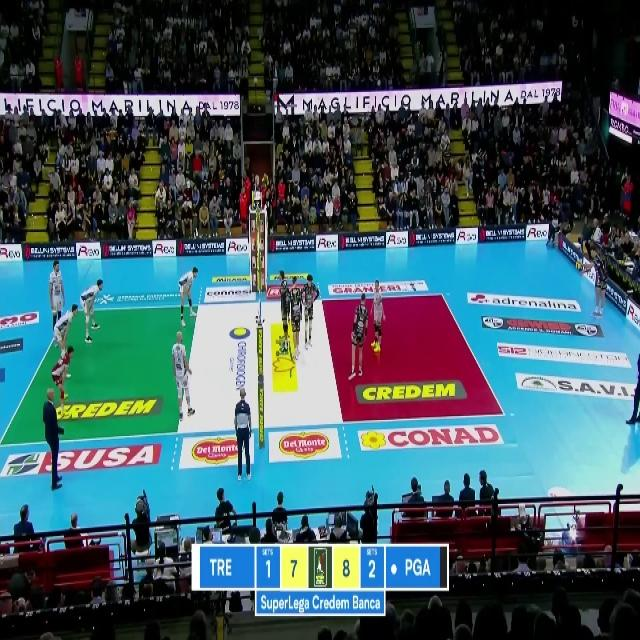volleyball court: (0, 292, 507, 445)
